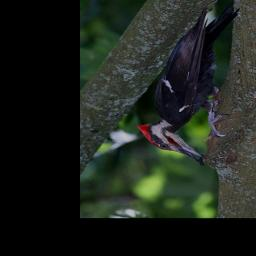Woodpecker: (136, 2, 240, 164)
